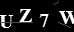7: (38, 13, 49, 28)
U: (1, 14, 14, 29)
W: (57, 10, 74, 25)
Z: (17, 8, 33, 23)
